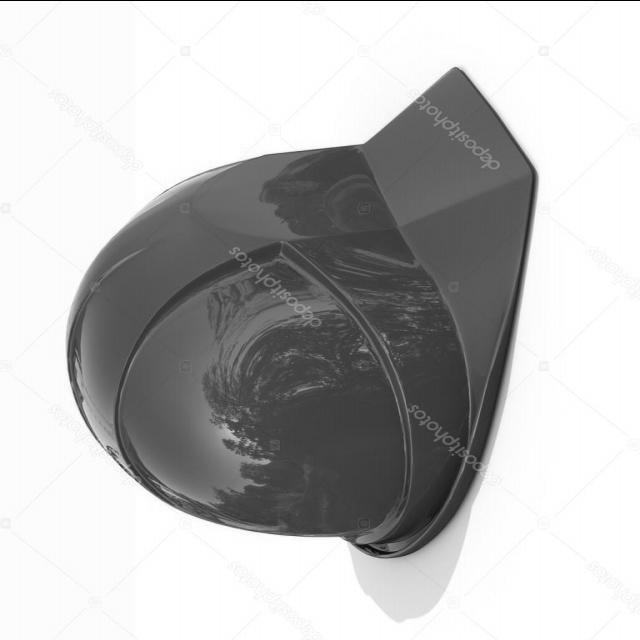safety_helmet: (68, 67, 538, 558)
